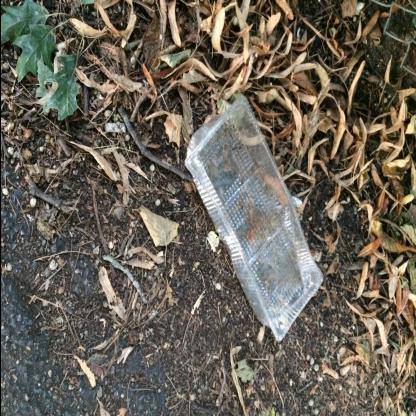plastik: (183, 92, 322, 340)
